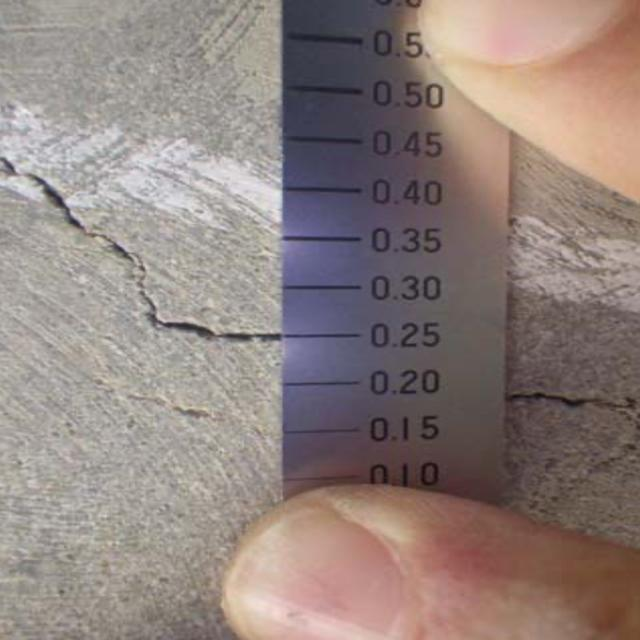crack: (0, 142, 273, 354), (519, 377, 630, 423)
